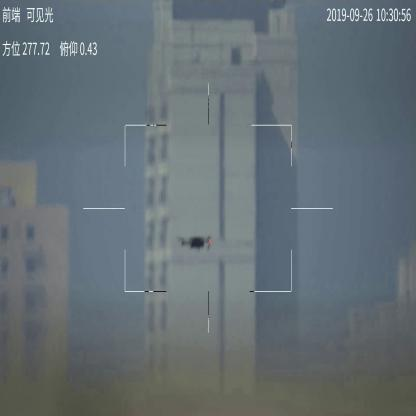uav: (178, 234, 220, 251)
